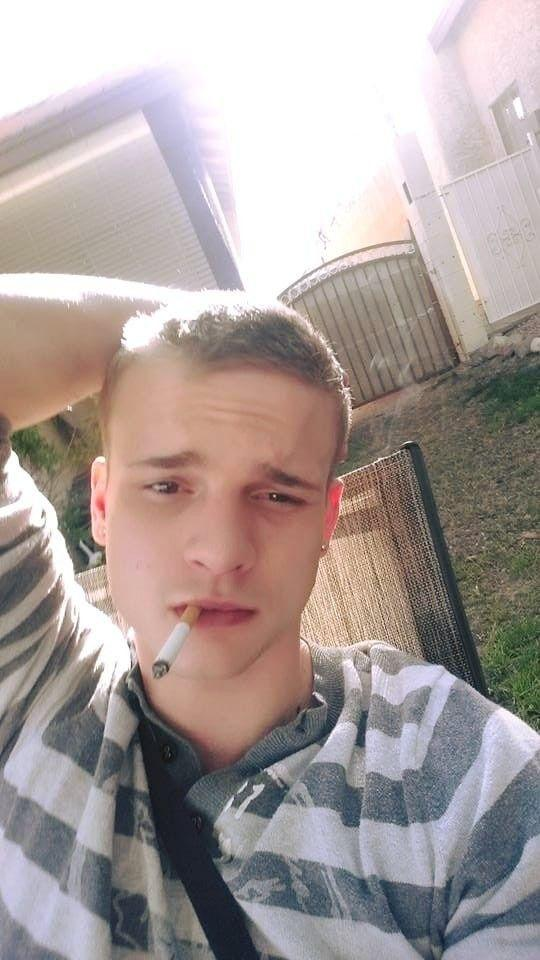cigarette: (151, 605, 202, 680)
